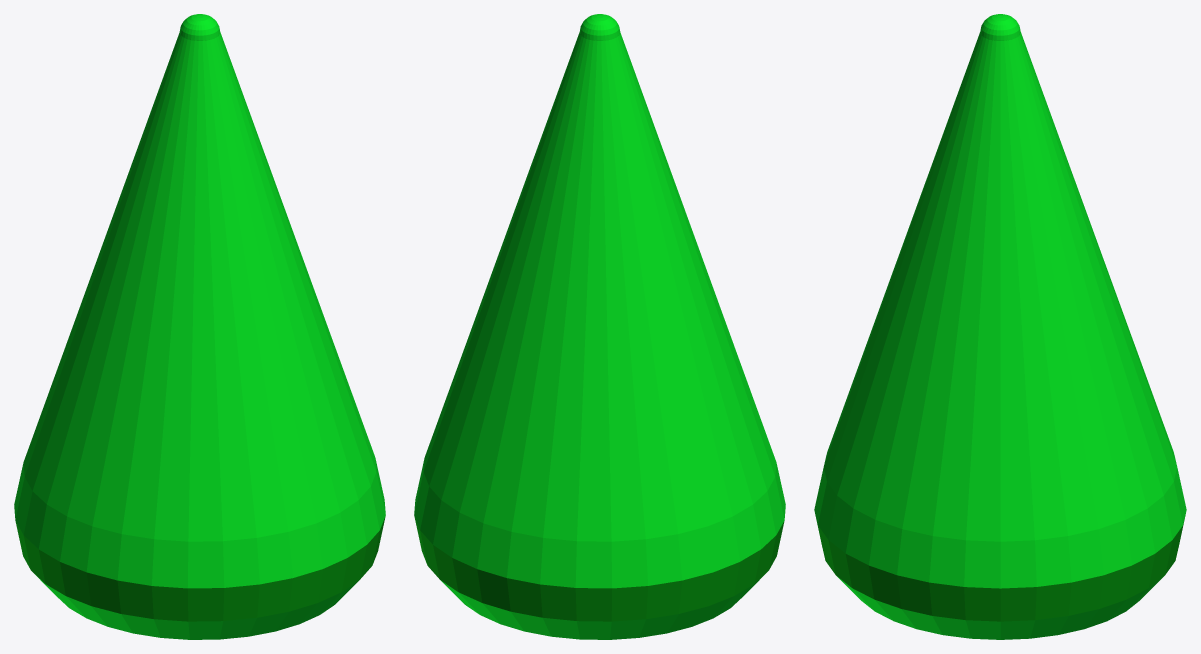
Rendered from Tree2.fbx.
3 renders of one model, left to right at view 1: azimuth 30°, elevation 25°; view 2: azimuth 150°, elevation 25°; view 3: azimuth 270°, elevation 25°, orthographic.
Parts seen in each view (by area): view 1: Tree2; view 2: Tree2; view 3: Tree2.
Part boxes in pixels (box(x1,y1,x2,y2)): Tree2: box(14, 14, 385, 639); Tree2: box(414, 14, 785, 639); Tree2: box(814, 14, 1186, 639).
Size of the model in its own units: 2.47 by 2.47 by 4.09.
